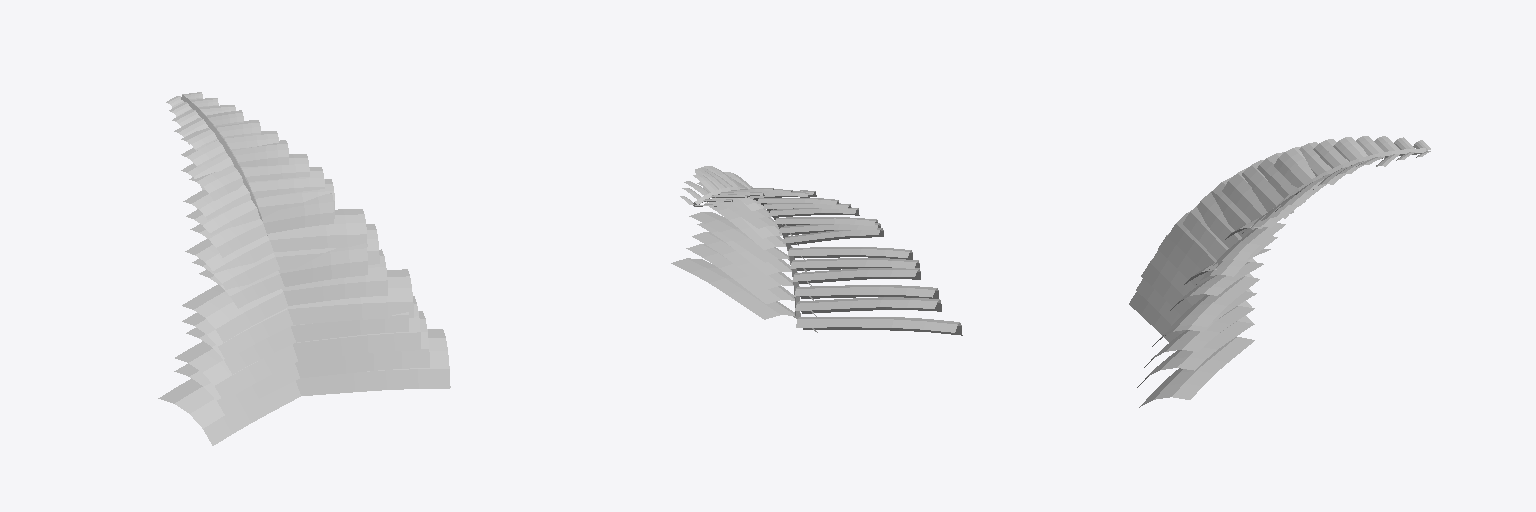
Rendered from Fern Leaf.obj.
3 views of the same model, side by side, from view 1: azimuth 30°, elevation 25°; view 2: azimuth 150°, elevation 25°; view 3: azimuth 270°, elevation 25° (orthographic).
Parts seen in each view (by area): view 1: Fern_Leaf:Mesh; view 2: Fern_Leaf:Mesh; view 3: Fern_Leaf:Mesh.
Boxes of the visible parts, box(x1,y1,x2,y2) form: Fern_Leaf:Mesh: box(158, 92, 450, 445); Fern_Leaf:Mesh: box(671, 166, 962, 335); Fern_Leaf:Mesh: box(1129, 136, 1430, 407).
Size of the model in its own units: 2.81 by 2.03 by 2.59.